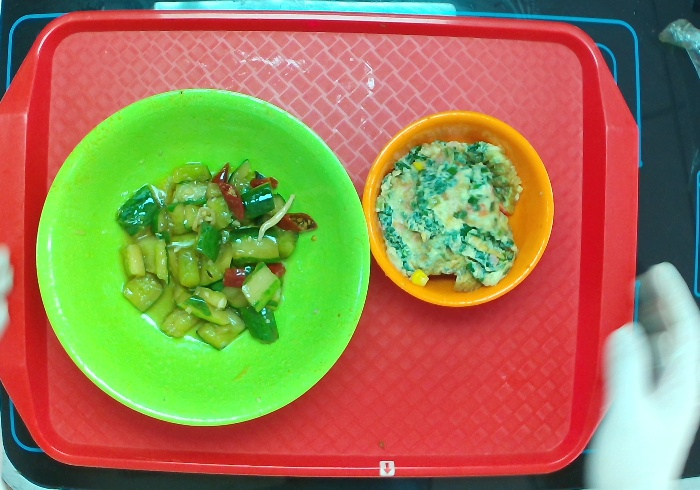YKMZ-Ju_Se_Yuan_Wan: (358, 107, 561, 309)
YKMZ-Lv_Se_Tang_Wan: (19, 82, 383, 434)
